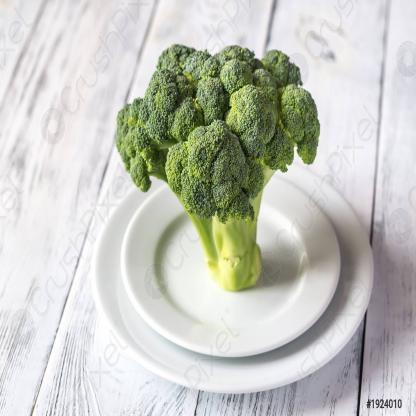broccoli: (115, 44, 324, 294)
